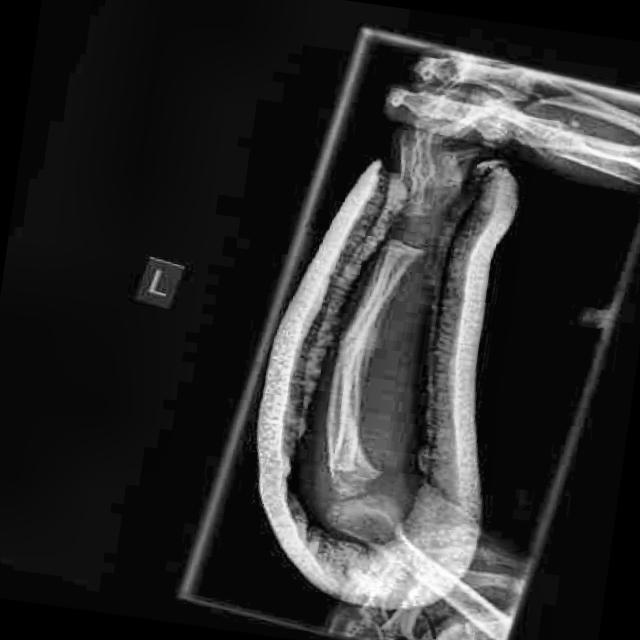forearm fracture: (310, 321, 405, 389)
